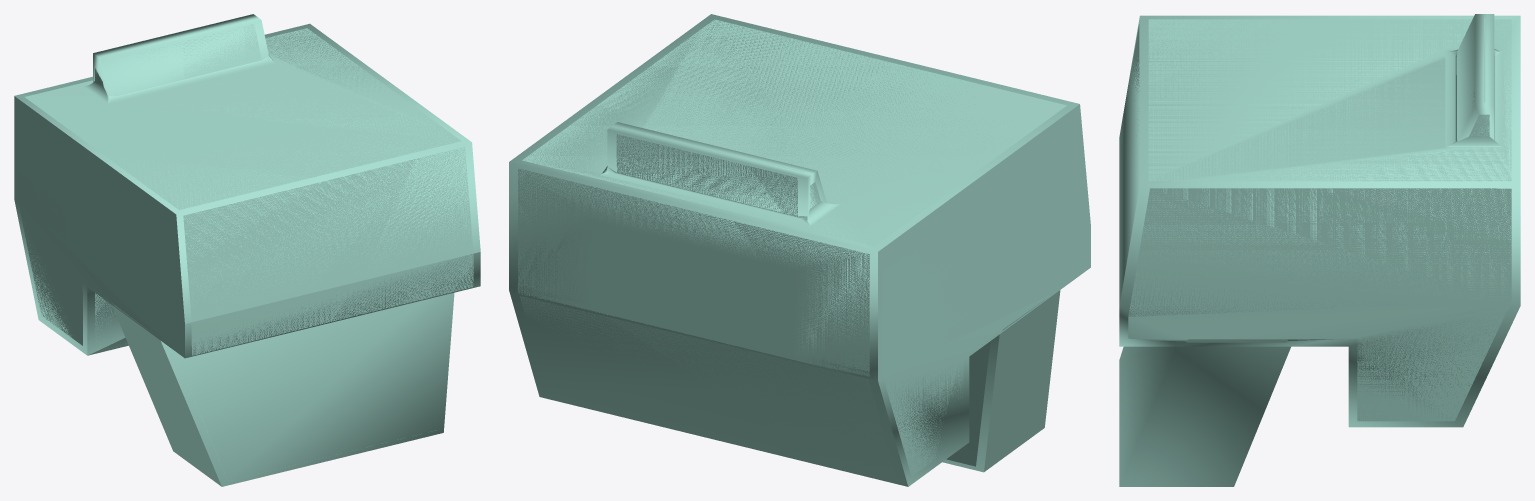
Rendered from space-kit__weapon_gun.glb.
The picture shows the model from 3 angles, left to right: view 1: azimuth 30°, elevation 25°; view 2: azimuth 150°, elevation 25°; view 3: azimuth 270°, elevation 25°; orthographic projection. The views are drawn at different scales.
Visible parts, largest first — view 1: L0_accent, L1_accent; view 2: L1_accent, L0_accent; view 3: L0_accent, L1_accent.
Part boxes in pixels (bbox=[...]): L0_accent: bbox=[18, 18, 473, 465]; L1_accent: bbox=[14, 14, 480, 486]; L1_accent: bbox=[509, 14, 1090, 486]; L0_accent: bbox=[517, 19, 1066, 481]; L0_accent: bbox=[1126, 17, 1511, 421]; L1_accent: bbox=[1119, 14, 1520, 486].
Bounding box in the file's own units: 1 × 1 × 1.
